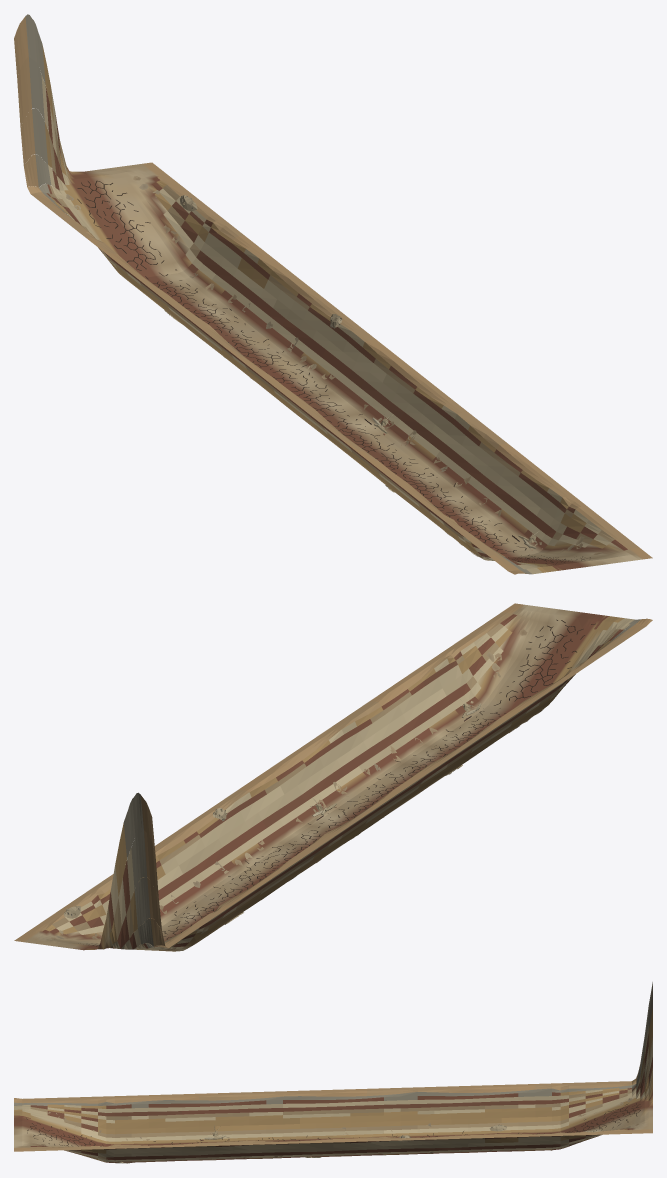
Rendered from liner_west_wash.glb.
The picture shows the model from 3 angles, top to bottom: view 1: azimuth 30°, elevation 25°; view 2: azimuth 150°, elevation 25°; view 3: azimuth 270°, elevation 25°; orthographic projection. The views are drawn at different scales.
Visible parts, largest first — view 1: liner_west_wash_body; view 2: liner_west_wash_body; view 3: liner_west_wash_body.
Boxes of the visible parts, left/top/right/bottom form: liner_west_wash_body: left=14, top=14, right=652, bottom=574; liner_west_wash_body: left=14, top=603, right=652, bottom=951; liner_west_wash_body: left=14, top=982, right=652, bottom=1163.
Size of the model in its own units: 36 by 61.45 by 226.
